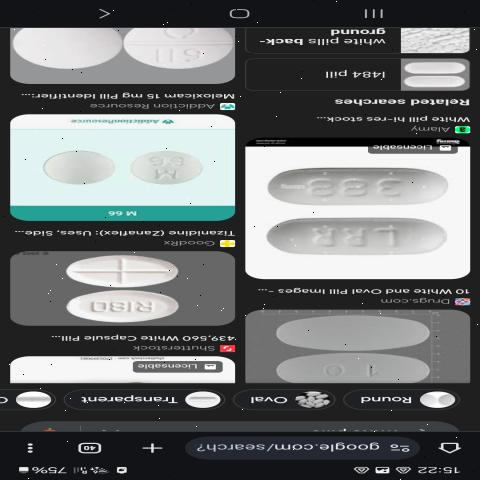Pill: (253, 159, 464, 214), (258, 216, 458, 268), (246, 312, 460, 354), (255, 350, 442, 384), (42, 253, 202, 290), (18, 137, 125, 192), (43, 289, 207, 324), (121, 140, 227, 193), (398, 57, 464, 73), (403, 73, 467, 85)
